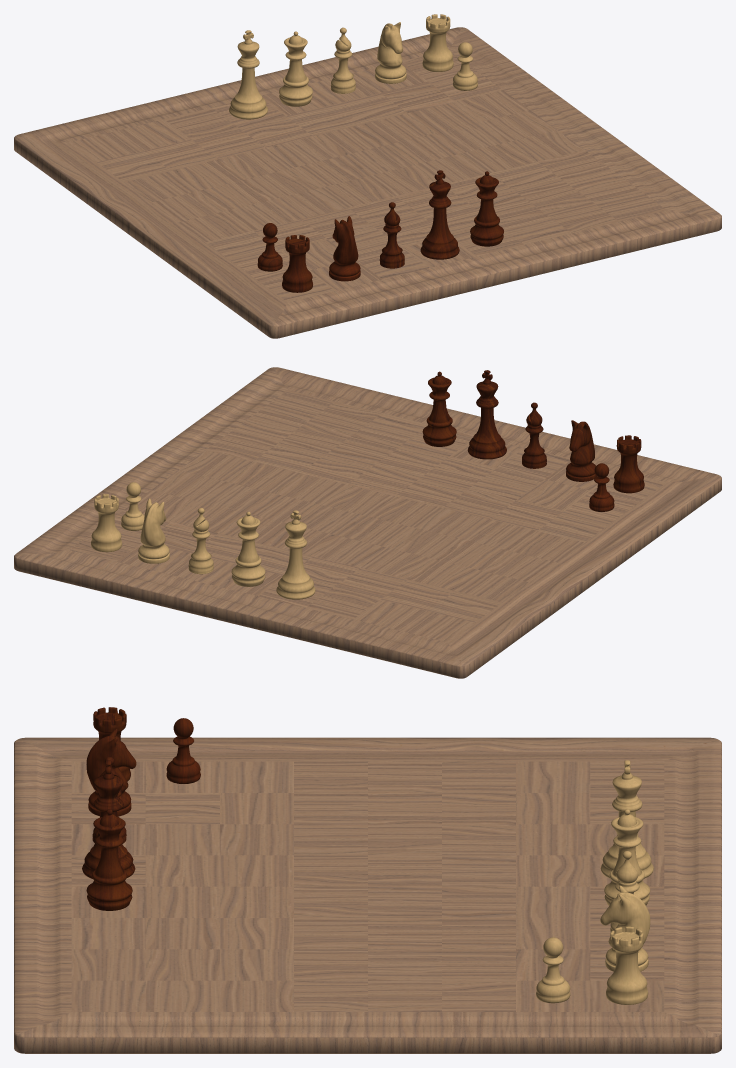
The model's file is german_set.gltf.
3 views of the same model, one above another, from view 1: azimuth 30°, elevation 25°; view 2: azimuth 150°, elevation 25°; view 3: azimuth 270°, elevation 25° (orthographic). The views are drawn at different scales.
Parts seen in each view (by area): view 1: board, piece_king_black, piece_king_white, piece_queen_white, piece_queen_black, piece_knight_black_01, piece_knight_white_01, piece_rook_black_01, piece_rook_white_01, piece_bishop_black_01, piece_bishop_white_01, piece_pawn_black_01 (+1 smaller); view 2: board, piece_king_white, piece_king_black, piece_queen_white, piece_queen_black, piece_knight_white_01, piece_knight_black_01, piece_rook_white_01, piece_rook_black_01, piece_bishop_white_01, piece_bishop_black_01, piece_pawn_black_01 (+1 smaller); view 3: board, piece_queen_black, piece_rook_white_01, piece_knight_black_01, piece_knight_white_01, piece_king_black, piece_king_white, piece_queen_white, piece_pawn_white_01, piece_pawn_black_01, piece_rook_black_01, piece_bishop_white_01.
Part boxes in pixels (<box>): board: <box>14,27,721,338</box>; piece_king_black: <box>420,170,459,259</box>; piece_king_white: <box>229,30,267,119</box>; piece_queen_white: <box>279,31,312,106</box>; piece_queen_black: <box>470,171,503,246</box>; piece_knight_black_01: <box>329,216,360,281</box>; piece_knight_white_01: <box>375,22,406,83</box>; piece_rook_black_01: <box>282,235,312,292</box>; piece_rook_white_01: <box>422,14,453,71</box>; piece_bishop_black_01: <box>379,202,404,268</box>; piece_bishop_white_01: <box>330,27,355,93</box>; piece_pawn_black_01: <box>257,223,282,271</box>; board: <box>14,367,721,678</box>; piece_king_white: <box>276,510,315,599</box>; piece_king_black: <box>467,370,506,459</box>; piece_queen_white: <box>231,511,265,586</box>; piece_queen_black: <box>422,371,456,446</box>; piece_knight_white_01: <box>138,498,169,563</box>; piece_knight_black_01: <box>566,420,596,481</box>; piece_rook_white_01: <box>91,494,122,552</box>; piece_rook_black_01: <box>613,435,644,493</box>; piece_bishop_white_01: <box>188,507,213,574</box>; piece_bishop_black_01: <box>522,402,546,468</box>; piece_pawn_black_01: <box>589,463,614,511</box>; board: <box>14,737,721,1053</box>; piece_queen_black: <box>86,809,132,910</box>; piece_rook_white_01: <box>606,926,648,1004</box>; piece_knight_black_01: <box>86,729,136,816</box>; piece_knight_white_01: <box>600,885,650,971</box>; piece_king_black: <box>82,760,135,878</box>; piece_king_white: <box>600,760,653,878</box>; piece_queen_white: <box>604,809,650,905</box>; piece_pawn_white_01: <box>536,937,570,1003</box>; piece_pawn_black_01: <box>166,718,200,783</box>; piece_rook_black_01: <box>93,707,130,781</box>; piece_bishop_white_01: <box>610,851,639,931</box>.
Bounding box in the file's own units: 0.5532 × 0.1124 × 0.5532.
Materials: 3 (3 with a texture image).
